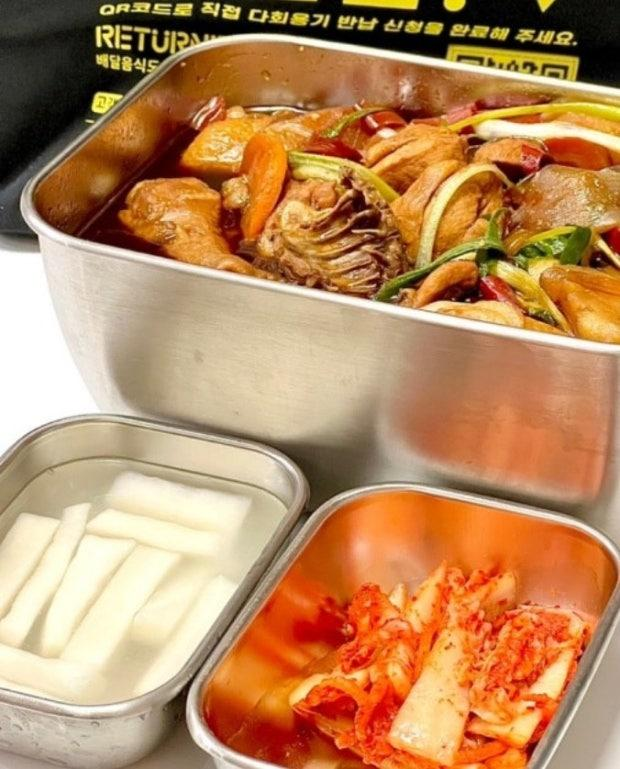Lunch Box: (22, 36, 619, 508), (186, 484, 619, 768), (0, 415, 308, 768)
